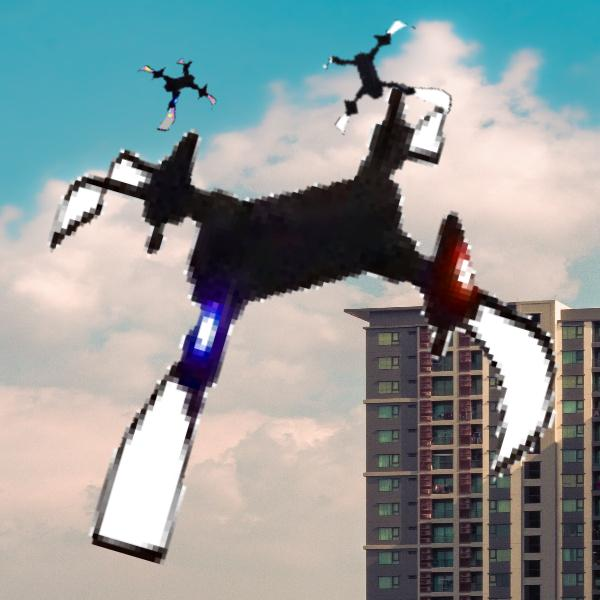drone: (25, 39, 582, 596), (315, 14, 461, 160), (127, 52, 215, 140)
